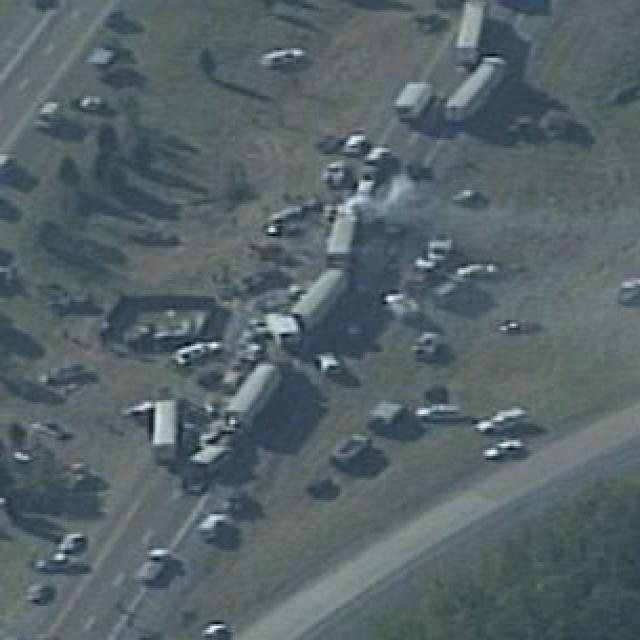traffic_incident: (254, 150, 380, 346)
